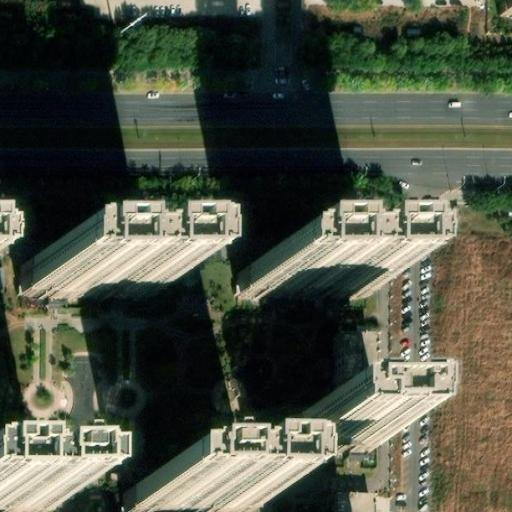building: (242, 250, 383, 291), (133, 466, 258, 507), (27, 254, 163, 290), (298, 412, 378, 450), (346, 333, 378, 412), (0, 471, 55, 509), (330, 495, 374, 512)
